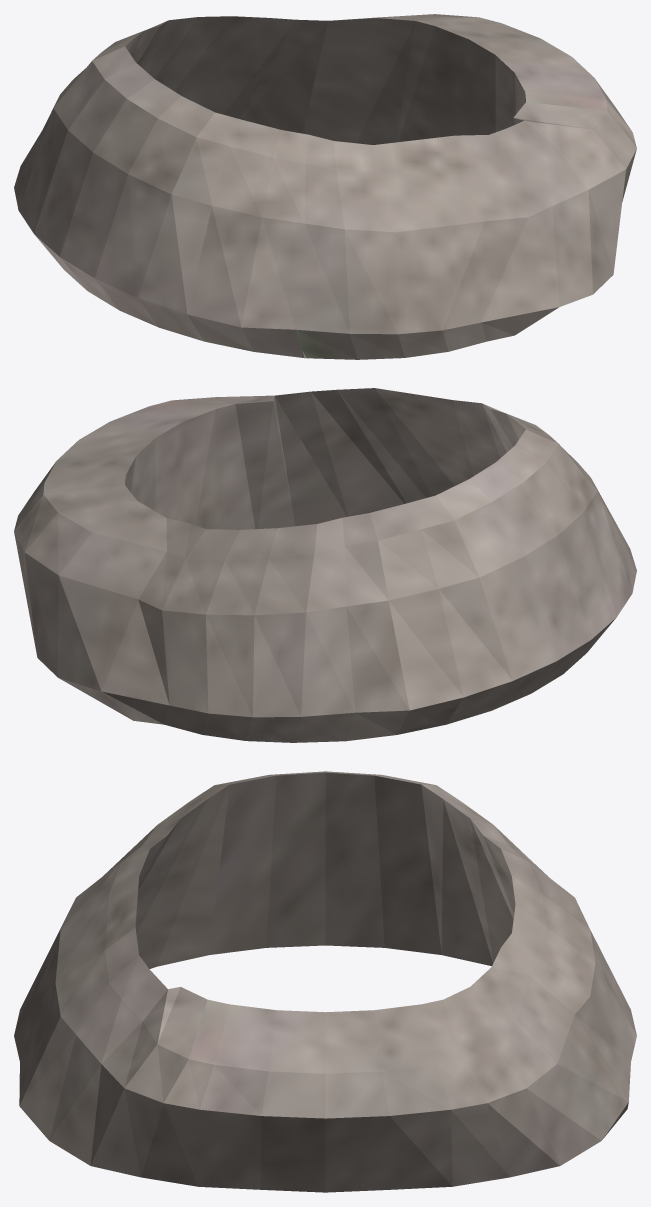
File: FACE SCARF.fbx
The picture shows the model from 3 angles, top to bottom: view 1: azimuth 30°, elevation 25°; view 2: azimuth 150°, elevation 25°; view 3: azimuth 270°, elevation 25°; orthographic projection. The views are drawn at different scales.
Visible parts, largest first — view 1: FACE_SCARF; view 2: FACE_SCARF; view 3: FACE_SCARF.
Part boxes in pixels (x1,y1,x2,y2): FACE_SCARF: (14,14,636,359); FACE_SCARF: (14,388,636,742); FACE_SCARF: (14,771,636,1192).
Size of the model in its own units: 33.83 by 12.97 by 32.25.
